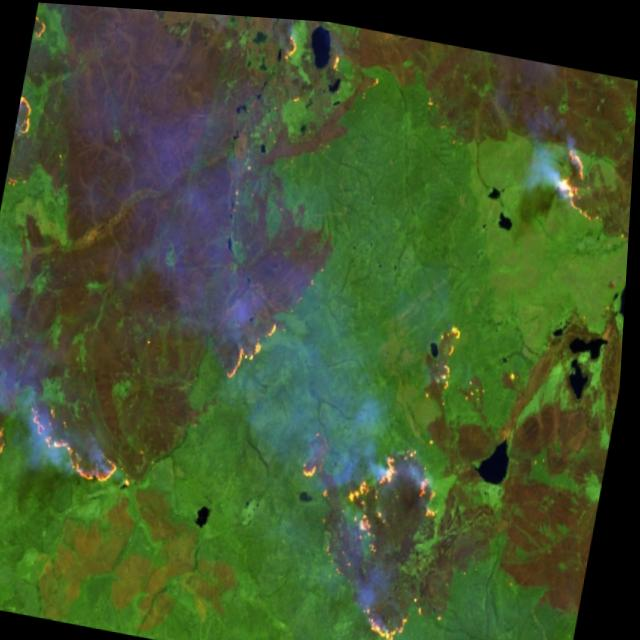fire: (275, 288, 476, 640), (0, 381, 133, 496), (221, 299, 292, 391), (13, 1, 58, 143), (549, 129, 613, 219)
